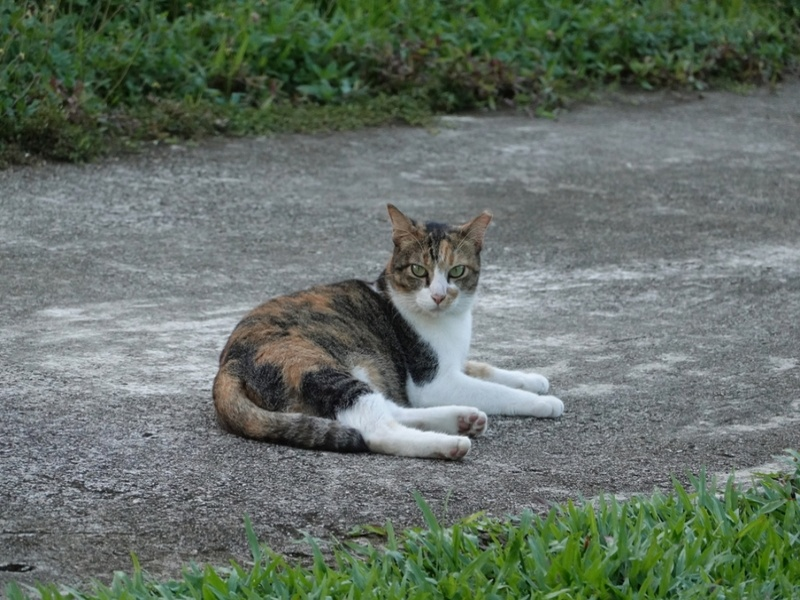cat: (212, 201, 571, 463)
